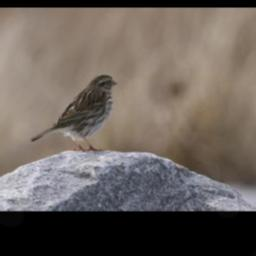Sparrow: (28, 70, 121, 153)
